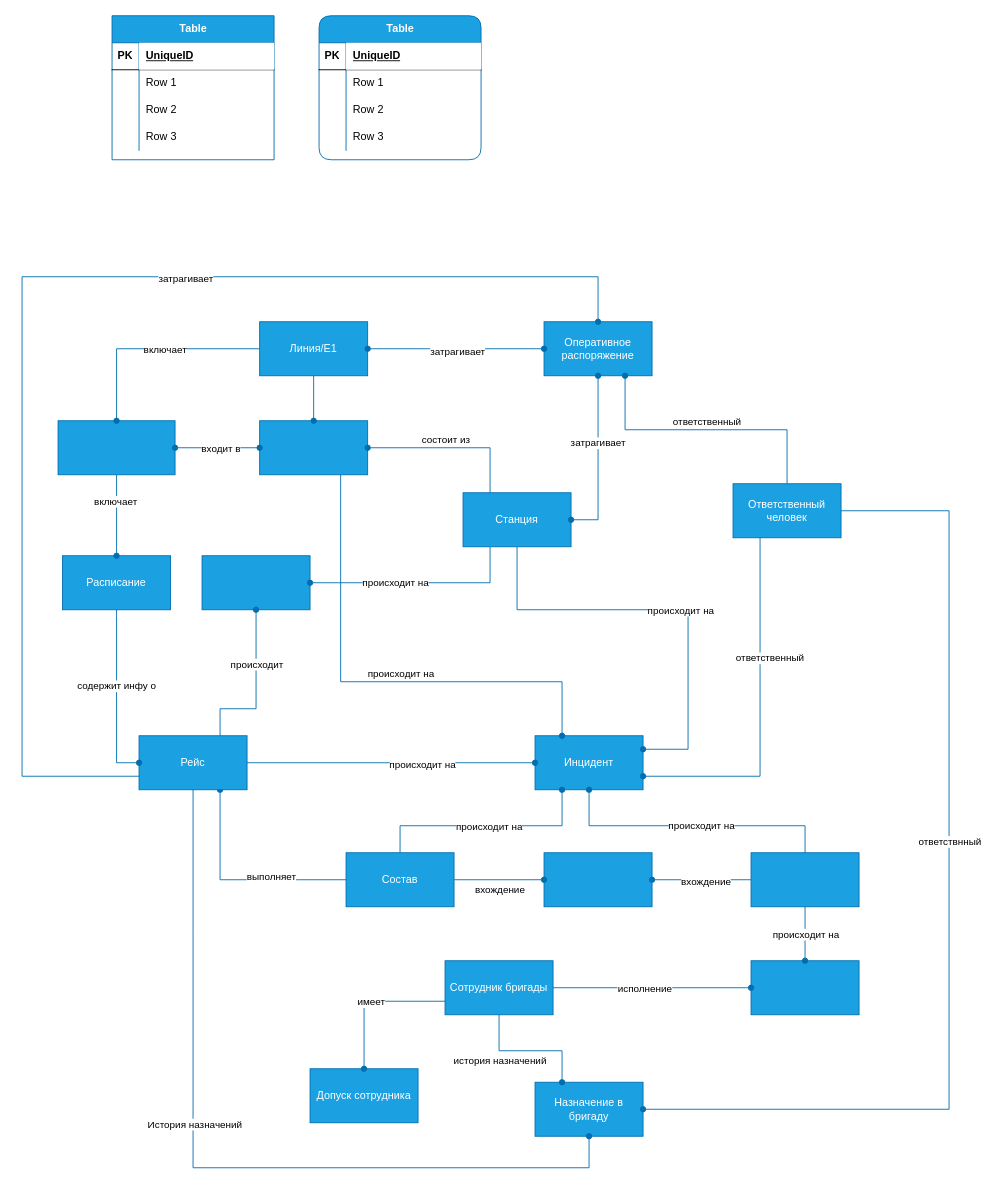
This 996x1191 diagram has some shape labels left out. Each missing label, with the centre of its shape:
Остановка рейса: the point at 255,582
Подвижная единица: the point at 804,879
Состав поезда: the point at 597,879
Схема линии: the point at 116,447
Техническое обслуживание: the point at 804,987
Участок линии: the point at 313,447
